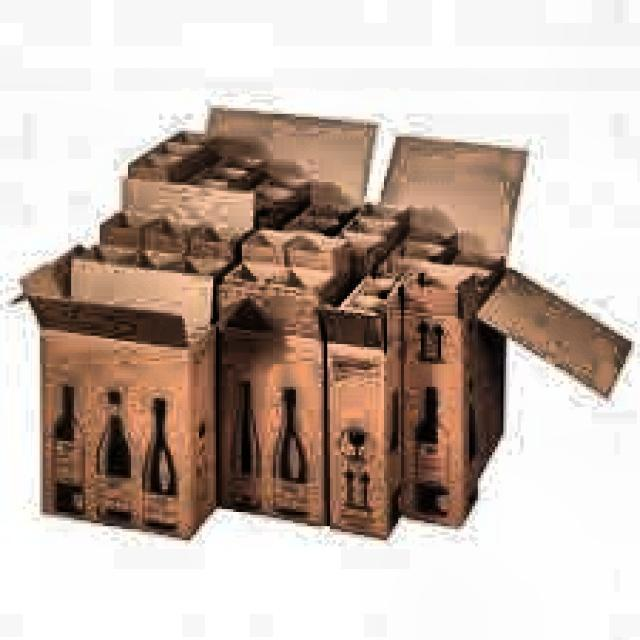cardboard: (11, 102, 632, 544)
